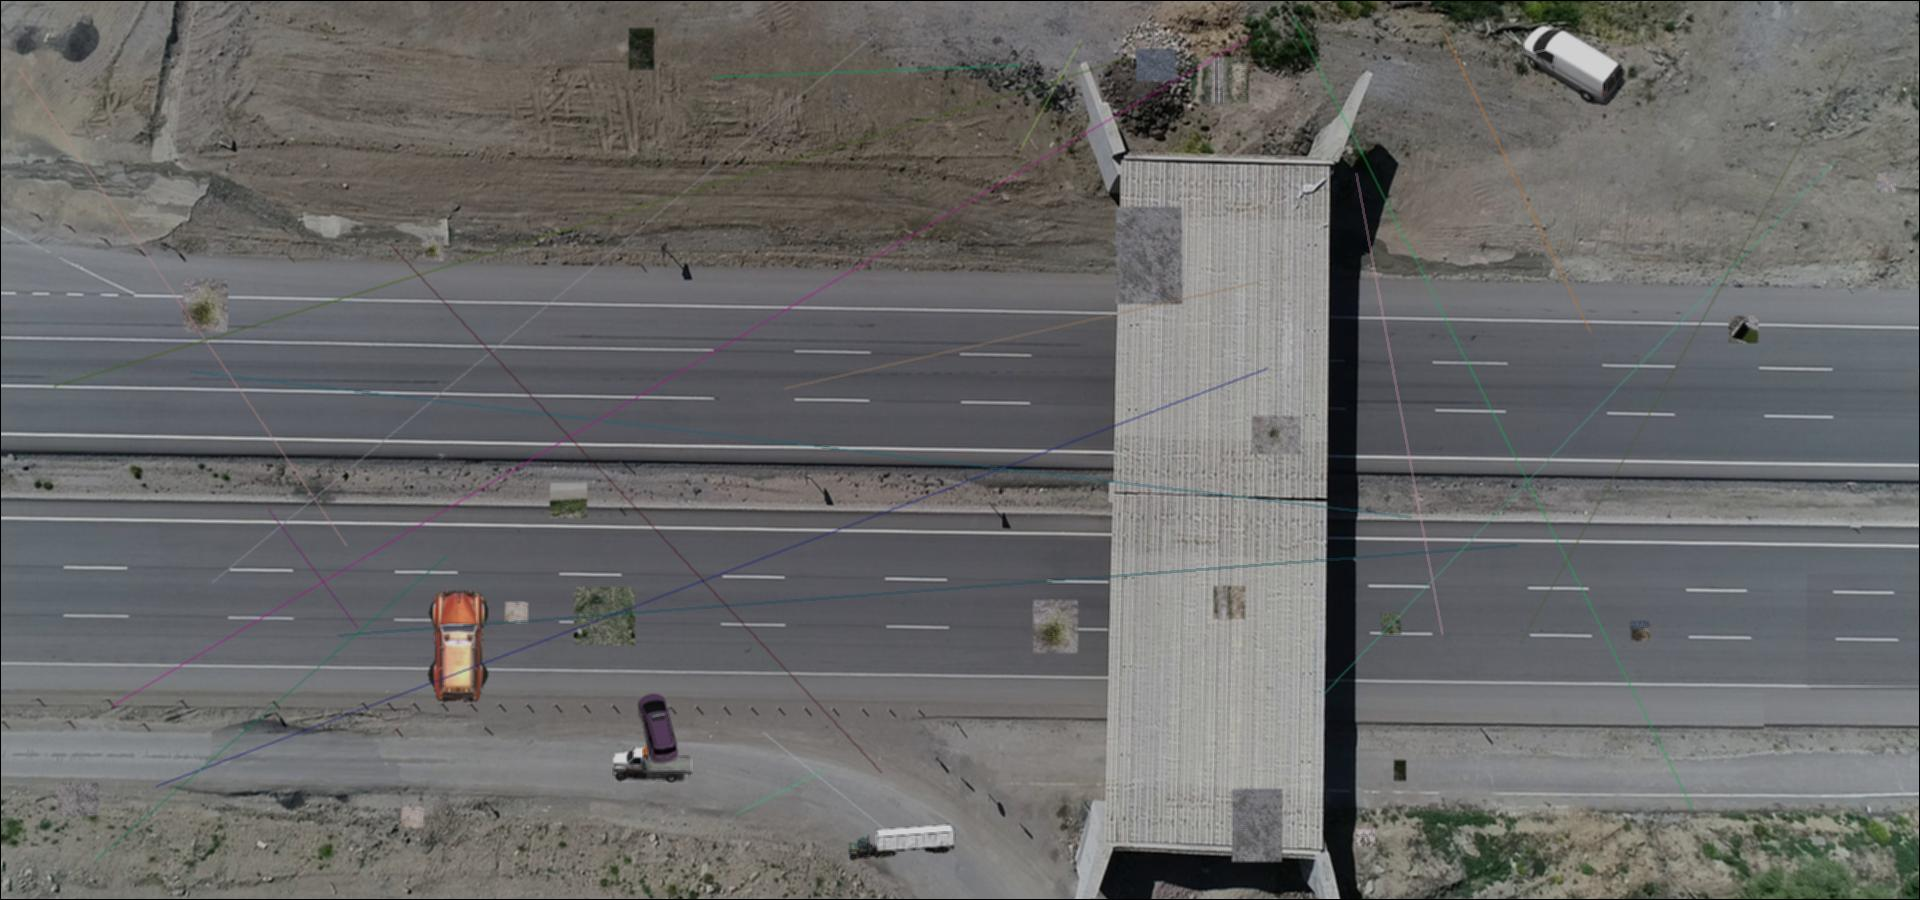arac: (1521, 22, 1626, 105), (429, 589, 491, 703), (849, 822, 955, 860), (637, 694, 683, 764), (613, 747, 696, 784)
